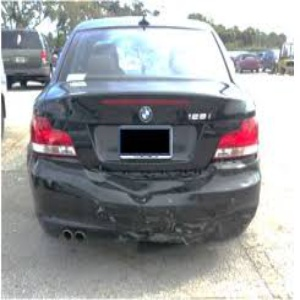bumper_scratch: (91, 191, 219, 250)
